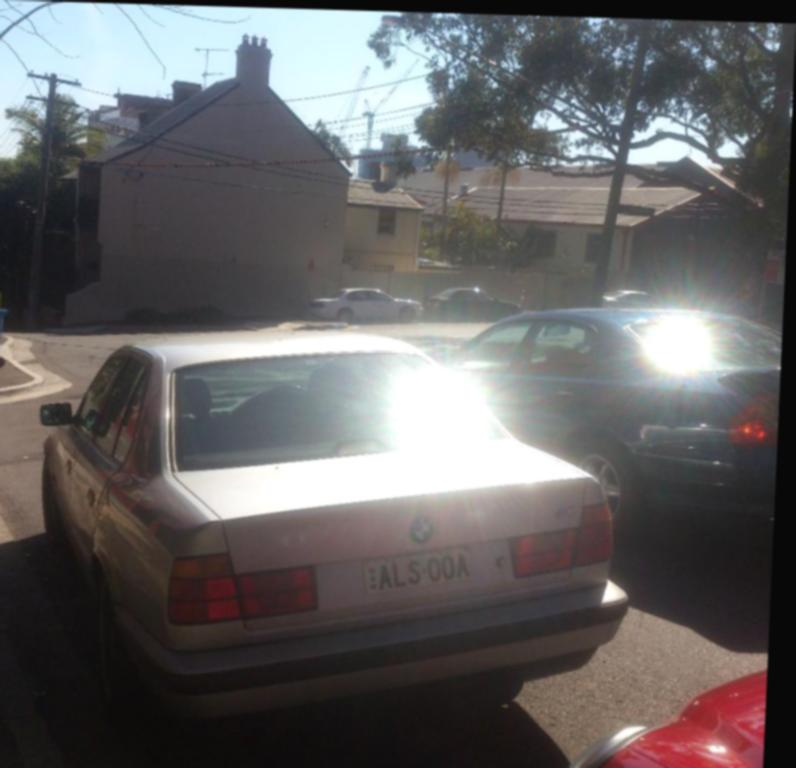License_Plate: (360, 540, 471, 593)
